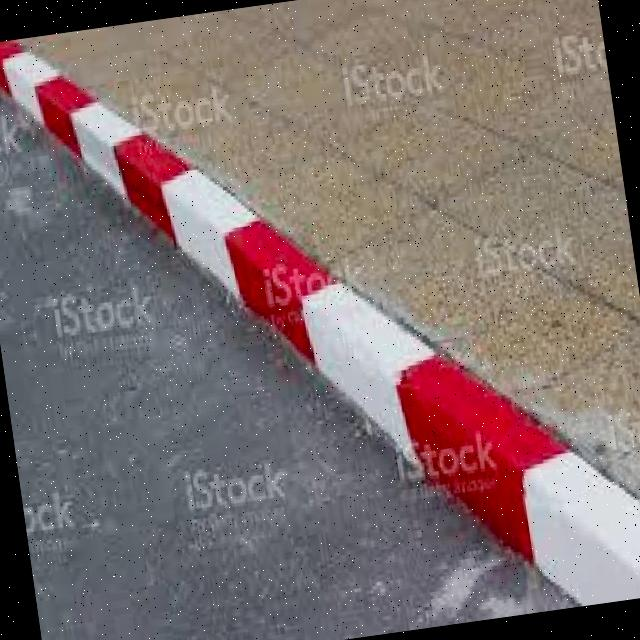curb: (230, 214, 458, 491), (428, 368, 640, 623), (39, 80, 269, 313), (1, 34, 95, 158)
